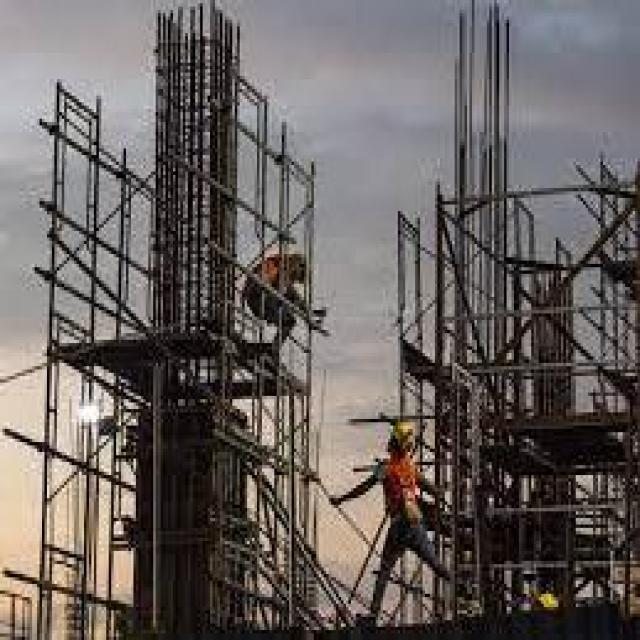Reflective-Jacket: (378, 445, 428, 531)
Safety-Helmet: (383, 412, 420, 452)
